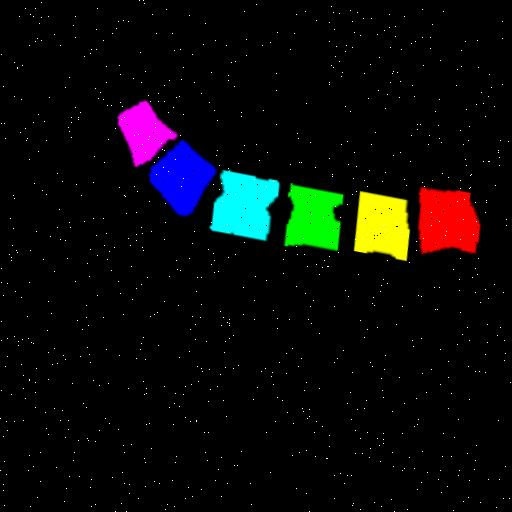L1: (412, 185, 475, 251)
L2: (349, 190, 404, 259)
L3: (279, 183, 337, 248)
L4: (206, 169, 275, 239)
L5: (145, 140, 212, 214)
S1: (114, 100, 174, 164)
